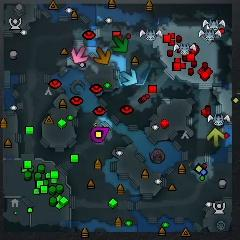p3: (90, 127, 110, 143)
x1: (71, 46, 88, 64)
x2: (207, 128, 224, 147)
x3: (121, 69, 138, 86)
x4: (112, 36, 129, 53)
x5: (93, 47, 112, 65)
